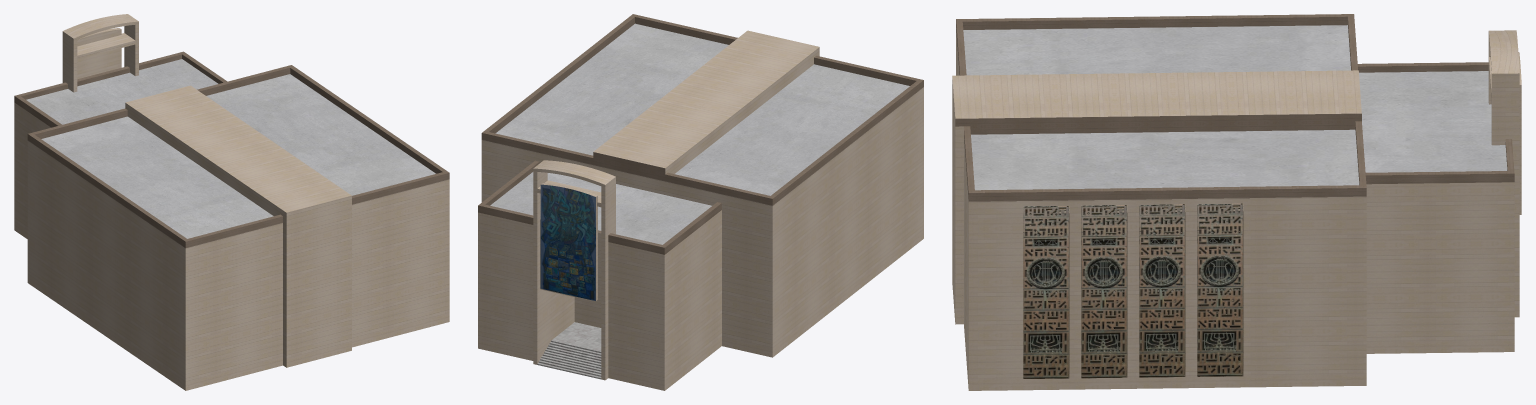
Rendered from synagogue.glb.
3 views of the same model, side by side, from view 1: azimuth 30°, elevation 25°; view 2: azimuth 150°, elevation 25°; view 3: azimuth 270°, elevation 25° (orthographic). The views are drawn at different scales.
Visible parts, largest first — view 1: Geom3D (×8), Geom3D_ (×2); view 2: Geom3D (×10); view 3: Geom3D (×12).
Boxes of the visible parts, x1,y1,x2,y2 form: Geom3D (×8): (14,14,449,390); Geom3D_ (×2): (77,28,135,79); Geom3D (×10): (478,14,923,390); Geom3D (×12): (952,14,1519,390).
Bounding box in the file's own units: 13.18 × 8.51 × 17.72.
Materials: 6 (6 with a texture image).
